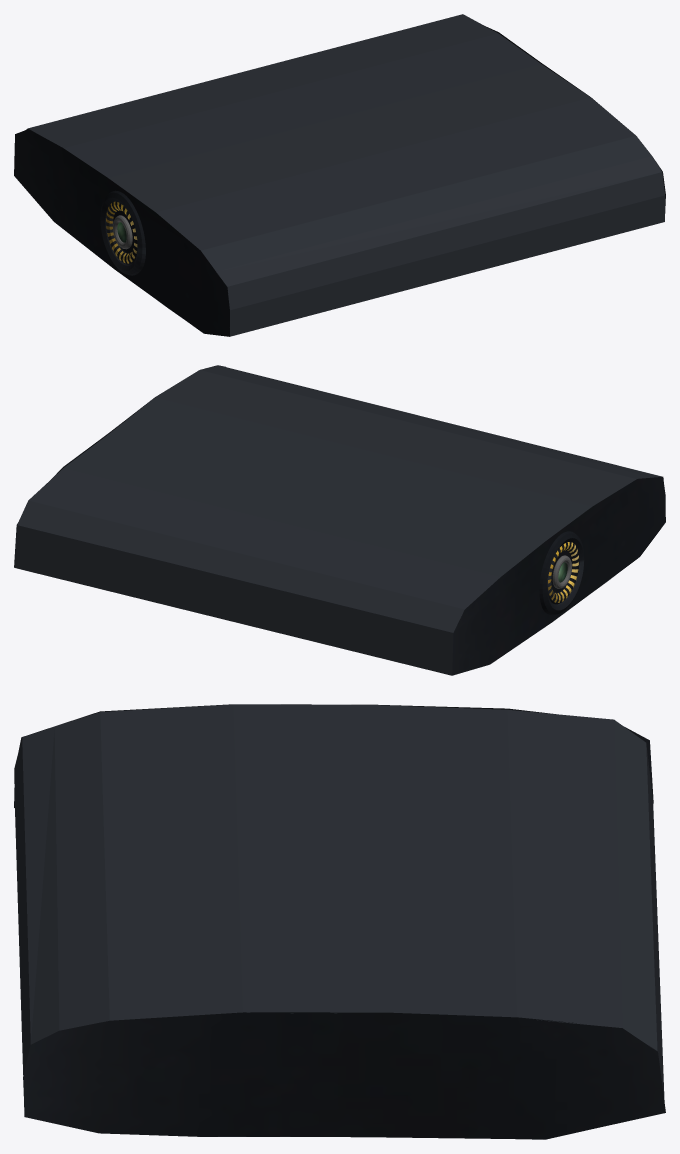
File: Beamer_Sony_VW1100.glb
The picture shows the model from 3 angles, top to bottom: view 1: azimuth 30°, elevation 25°; view 2: azimuth 150°, elevation 25°; view 3: azimuth 270°, elevation 25°; orthographic projection. The views are drawn at different scales.
Parts seen in each view (by area): view 1: Torus.026; view 2: Torus.026; view 3: Torus.026.
Part boxes in pixels (x1,y1,x2,y2): Torus.026: (14,14,665,336); Torus.026: (14,365,665,675); Torus.026: (14,704,665,1139).
Bounding box in the file's own units: 0.7261 × 0.145 × 0.6238.
Materials: 4 (4 with a texture image).
